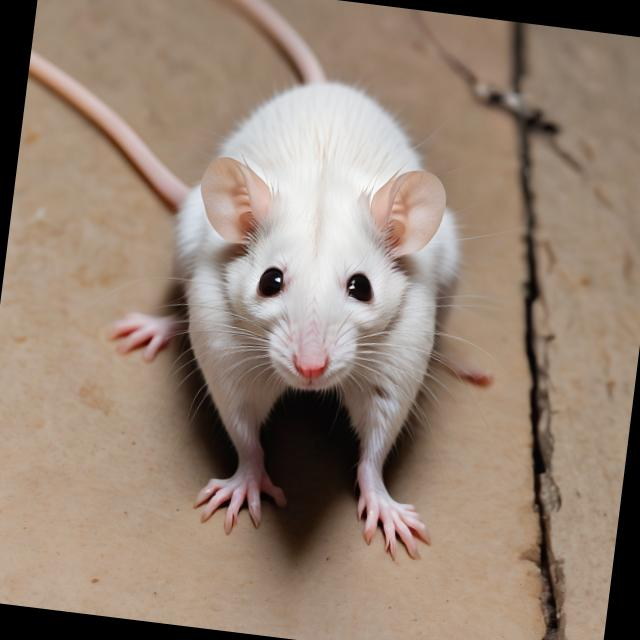rodent: (78, 41, 510, 576)
